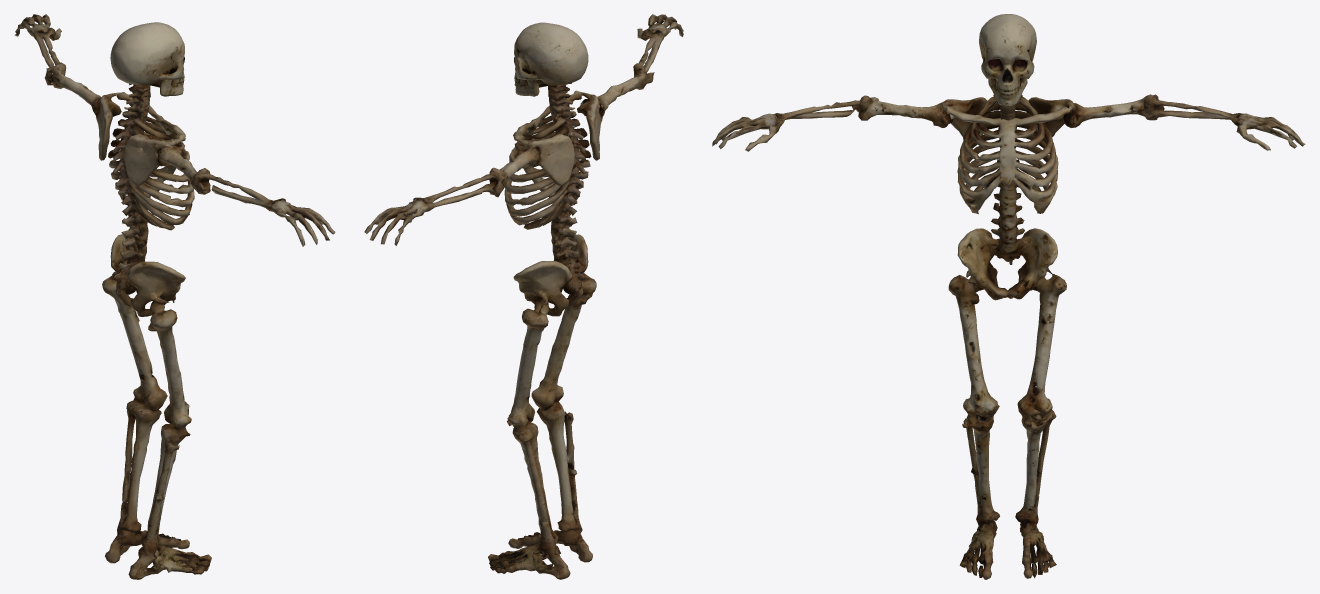
The model's file is skeleton_worn2.glb.
3 views of the same model, side by side, from view 1: azimuth 30°, elevation 25°; view 2: azimuth 150°, elevation 25°; view 3: azimuth 270°, elevation 25° (orthographic).
Visible parts, largest first — view 1: tripo_node_63b1d7fa-2662-4212-b814-c1ce5e995c0a; view 2: tripo_node_63b1d7fa-2662-4212-b814-c1ce5e995c0a; view 3: tripo_node_63b1d7fa-2662-4212-b814-c1ce5e995c0a.
Boxes of the visible parts, bbox=[...] form: tripo_node_63b1d7fa-2662-4212-b814-c1ce5e995c0a: bbox=[14, 14, 335, 579]; tripo_node_63b1d7fa-2662-4212-b814-c1ce5e995c0a: bbox=[364, 14, 683, 579]; tripo_node_63b1d7fa-2662-4212-b814-c1ce5e995c0a: bbox=[712, 14, 1305, 579].
Size of the model in its own units: 0.1682 by 1 by 0.9974.
Materials: 1 (1 with a texture image).
